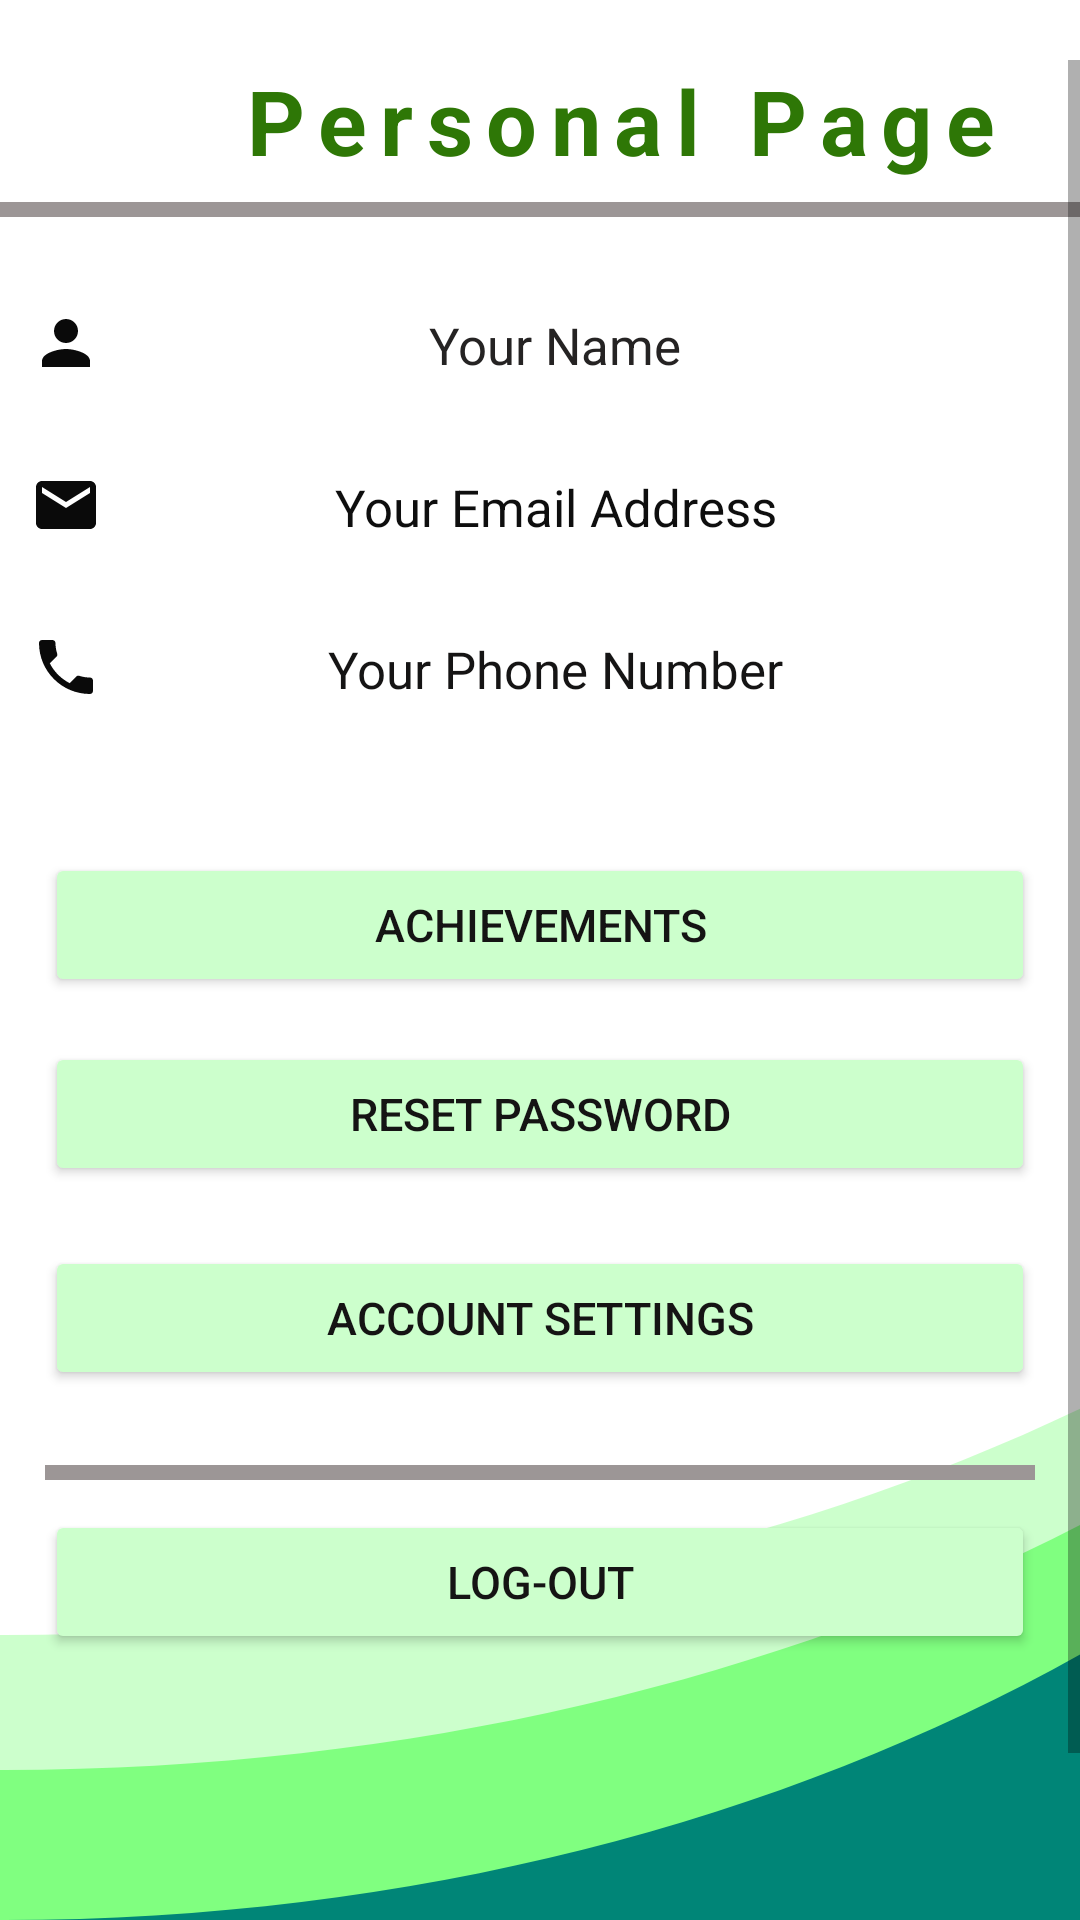

Where to tap for icons on this 1080 x 1920 app screen, as (x=x, y=y):
personame: (x=66, y=343)
